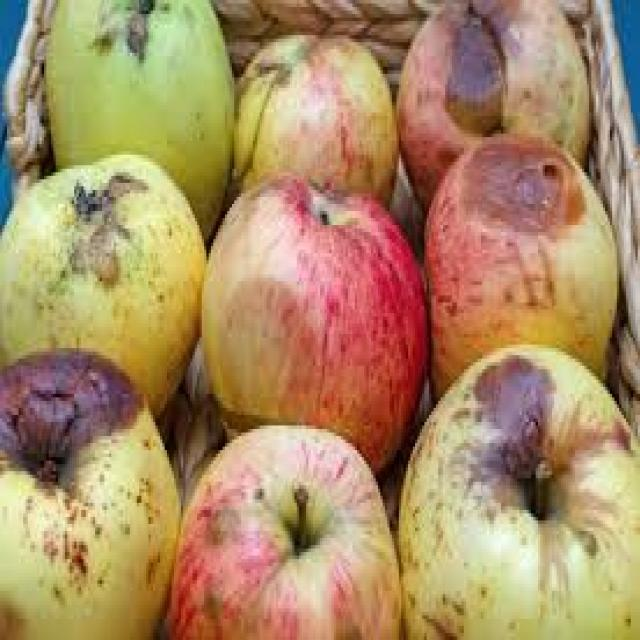organic waste: (397, 341, 638, 637), (195, 168, 429, 460), (0, 148, 204, 429), (0, 344, 181, 636), (417, 130, 617, 387), (167, 415, 399, 636), (42, 0, 230, 229), (392, 0, 589, 211), (227, 28, 394, 208)
